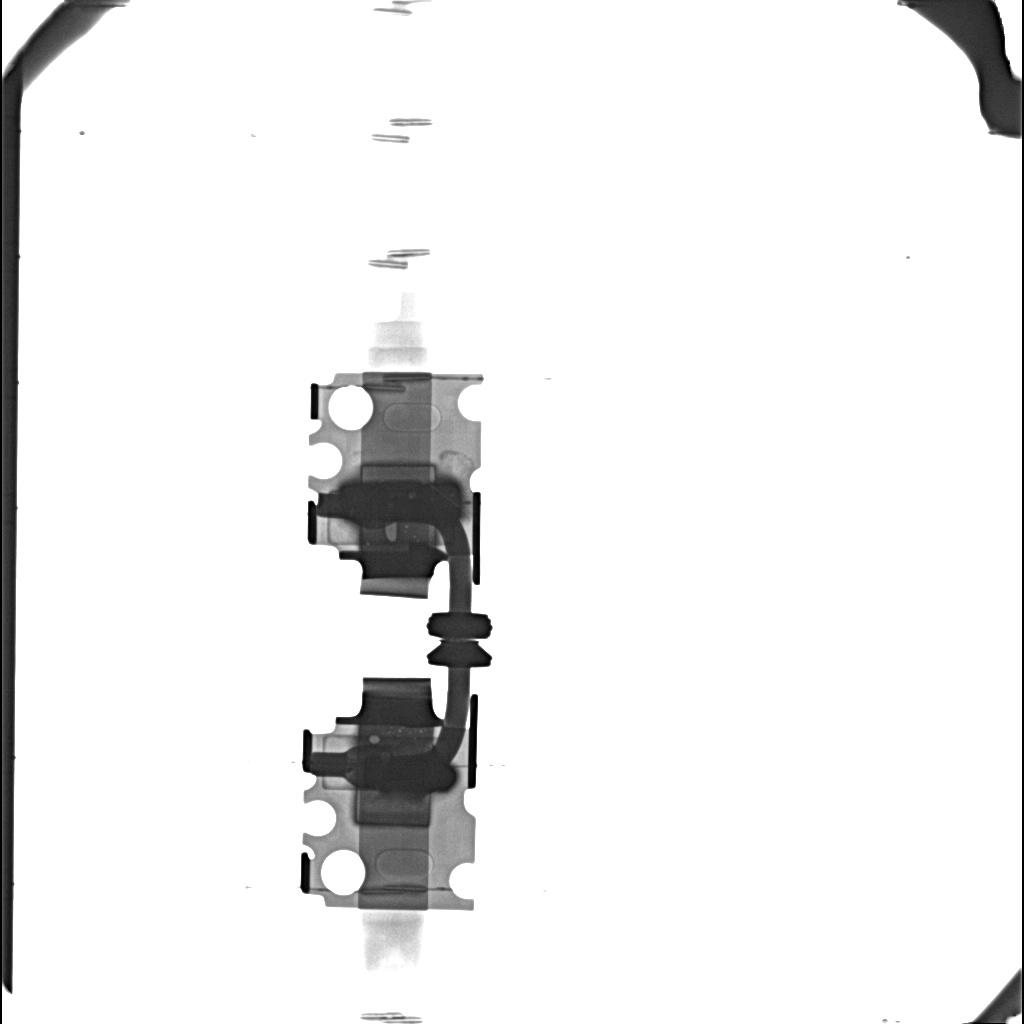PX: (353, 791, 432, 828), (360, 464, 437, 481)
QP: (384, 523, 397, 543), (368, 735, 380, 743)
SX: (341, 482, 460, 523), (363, 756, 455, 792)
